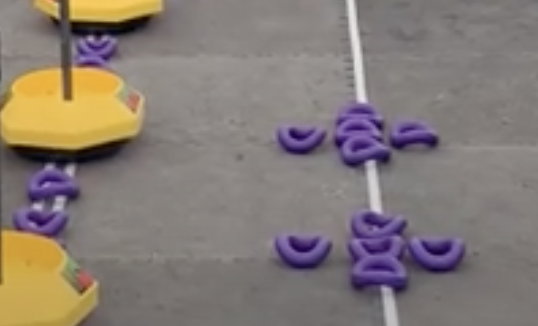ring: (408, 234, 465, 272), (350, 254, 408, 290), (275, 233, 332, 268), (26, 169, 79, 201), (351, 208, 408, 237), (341, 134, 391, 165), (13, 208, 67, 236), (276, 124, 326, 154), (347, 236, 405, 261), (334, 118, 384, 144), (336, 103, 384, 130), (390, 122, 439, 148), (74, 36, 118, 59)
